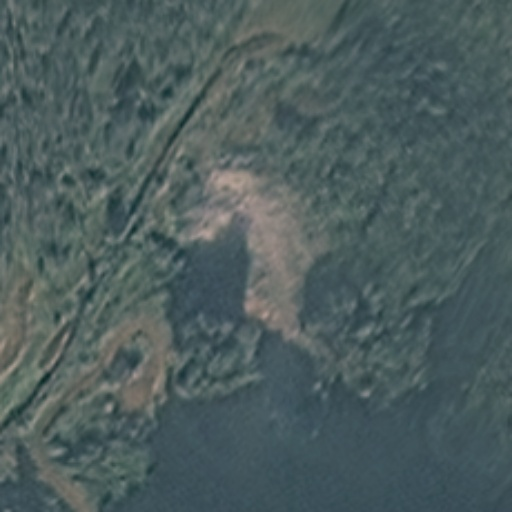landslide: (203, 163, 329, 339)
